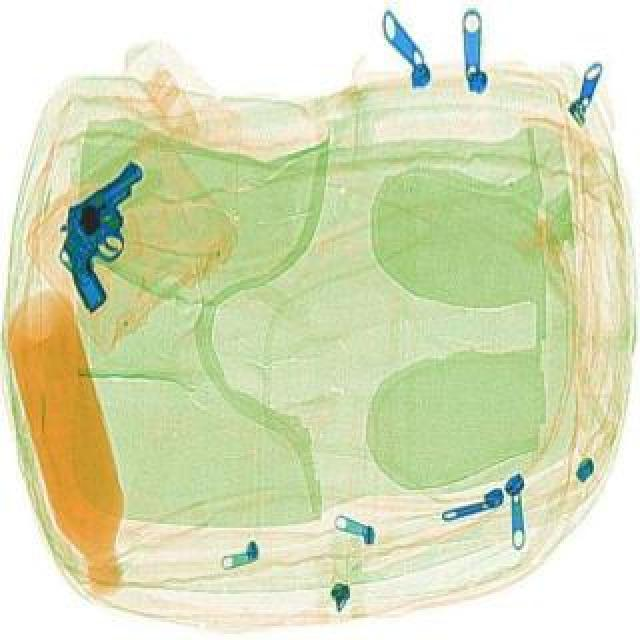gun: (22, 152, 198, 310)
